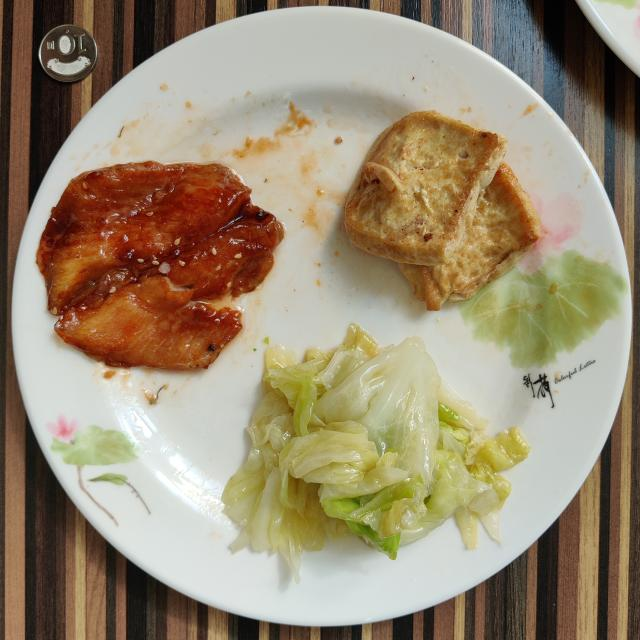Kabayaki sea bream fillet: (38, 161, 284, 370)
cabbage: (222, 325, 530, 580)
coin: (39, 25, 98, 82)
